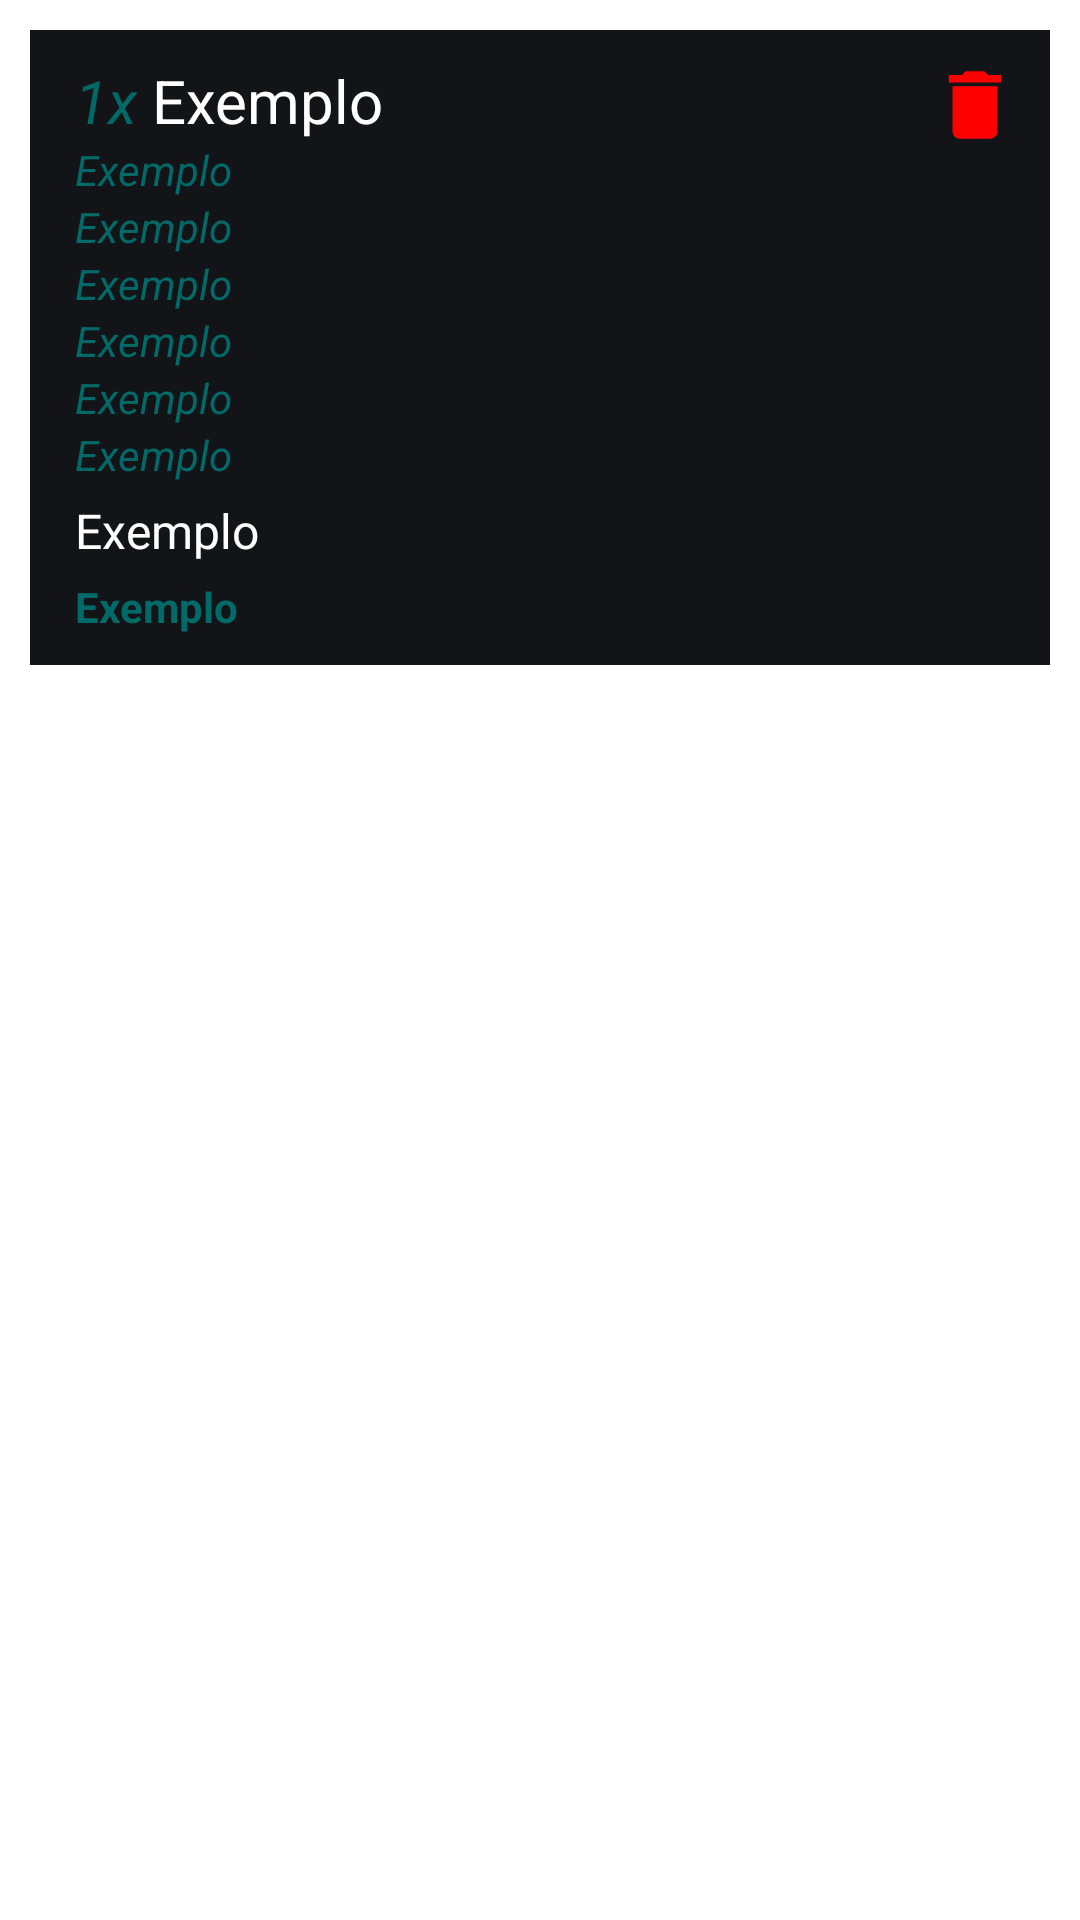

Named icons in this screenshot (1080x1920) and their centers, (x=x, y=y):
delete: (x=975, y=105)
